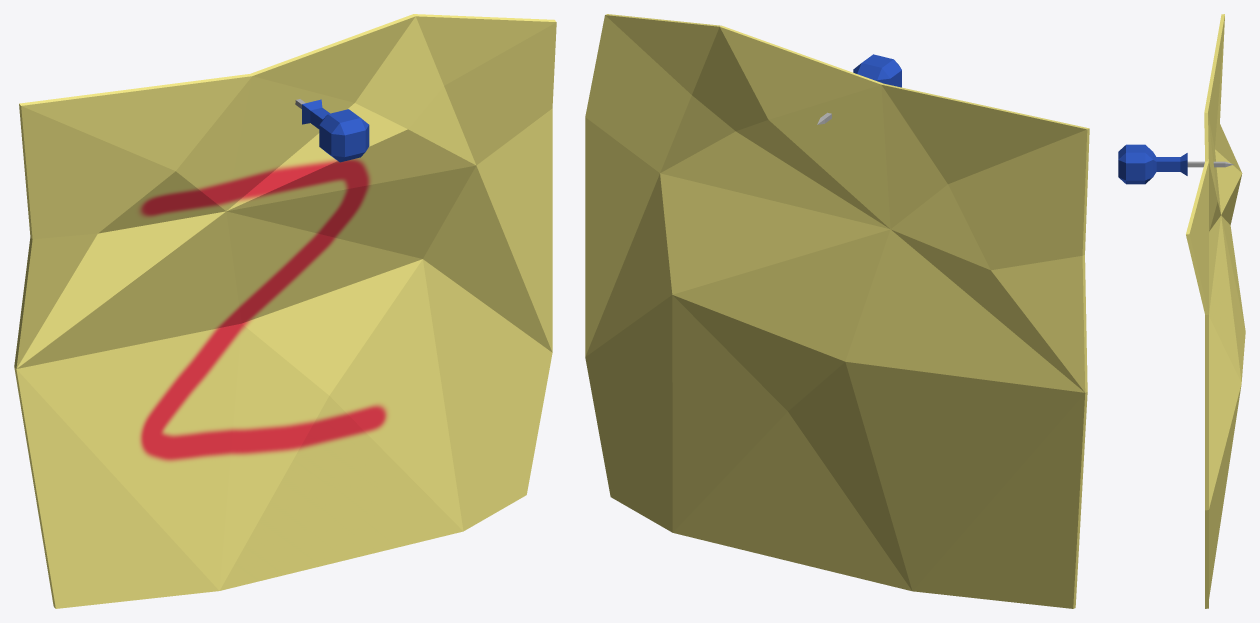
The model's file is Paper Letter Z.fbx.
3 views of the same model, side by side, from view 1: azimuth 30°, elevation 25°; view 2: azimuth 150°, elevation 25°; view 3: azimuth 270°, elevation 25° (orthographic). The views are drawn at different scales.
Parts seen in each view (by area): view 1: Papier, Punaise; view 2: Papier, Punaise; view 3: Papier, Punaise.
Boxes of the visible parts, box(x1,y1,x2,y2) form: Papier: box(14, 14, 556, 608); Punaise: box(295, 99, 369, 162); Papier: box(585, 14, 1089, 608); Punaise: box(817, 54, 901, 124); Papier: box(1186, 14, 1245, 608); Punaise: box(1118, 144, 1233, 184).
Size of the model in its own units: 208 by 200 by 54.89.
